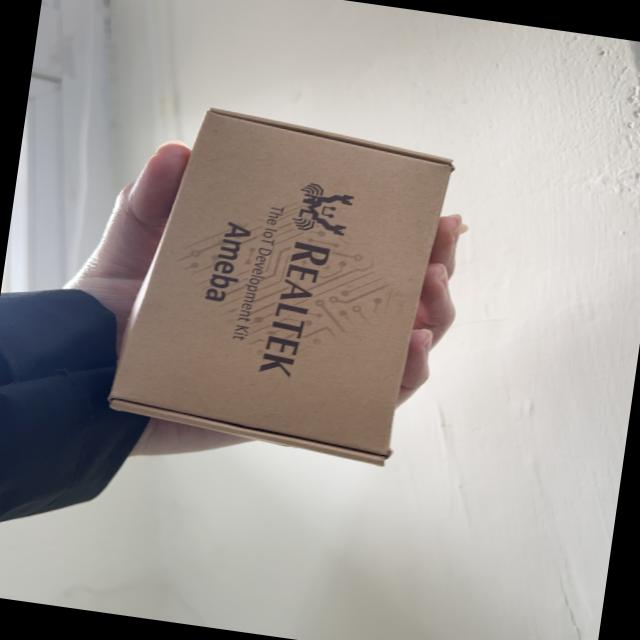box: (68, 100, 474, 478)
